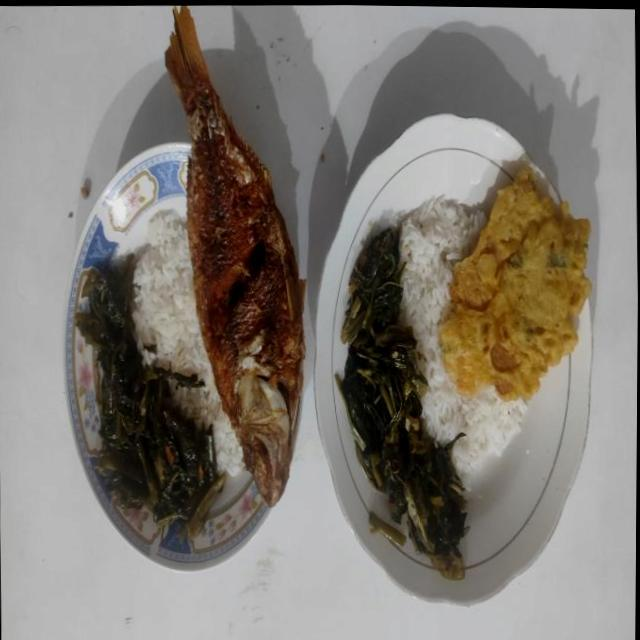ikan_mujair: (165, 5, 305, 506)
nasi_putih: (398, 196, 528, 478), (131, 210, 245, 476)
tumis_kangkung: (334, 228, 468, 579), (76, 256, 224, 536)
